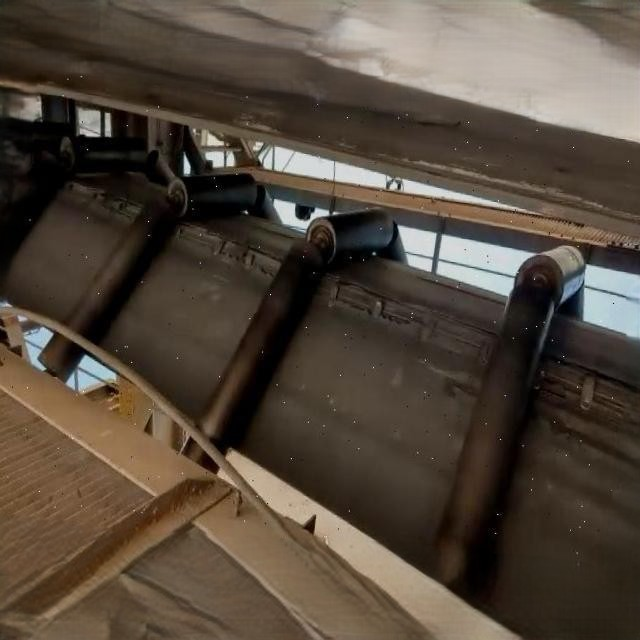Tear: (319, 262, 504, 364), (535, 330, 639, 459), (174, 213, 286, 280), (65, 175, 152, 222)
Wear: (410, 350, 482, 407)
